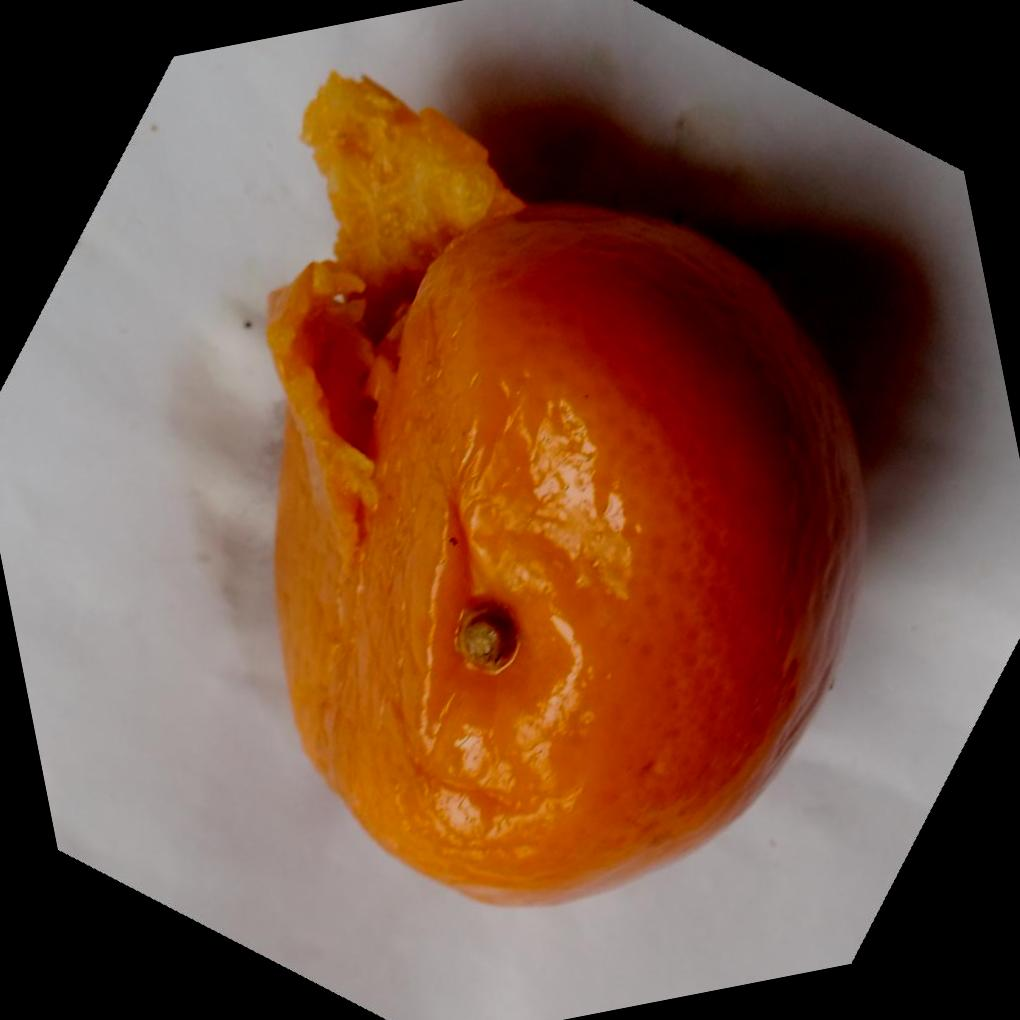FreshOrange: (258, 75, 866, 909)
